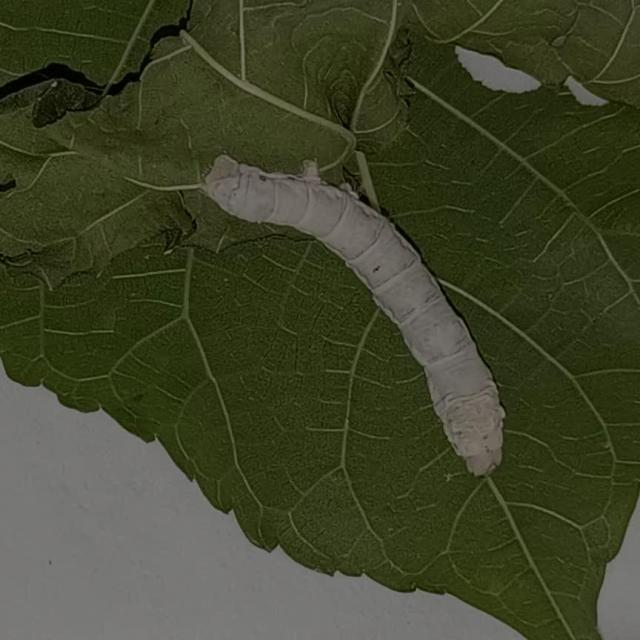Healthy: (205, 160, 518, 484)
